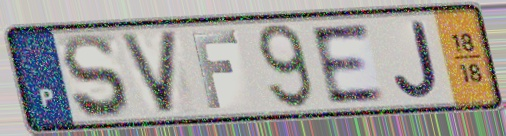9: (253, 22, 318, 112)
E: (306, 20, 389, 107)
F: (187, 29, 242, 111)
J: (390, 18, 443, 102)
S: (59, 30, 133, 122)
V: (115, 29, 182, 117)
